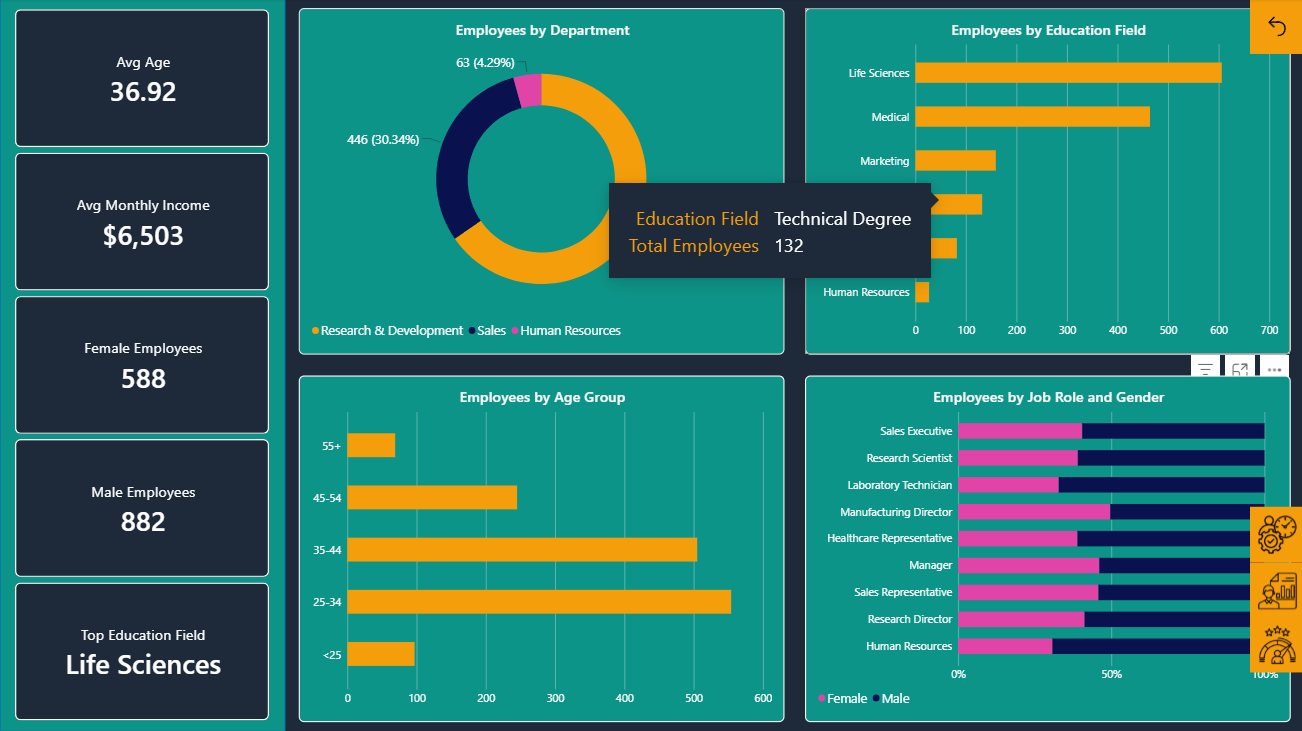

The dashboard page shown, as its layout file describes it:
{"tool":"powerbi","page":{"name":"Employee Demographics","canvas":[1920,1080],"ordinal":1},"visuals":[{"type":"shape","box":[0,0,420,1080],"z":0},{"type":"actionButton","box":[1840,750,80,82.5],"z":0,"group":"g1"},{"type":"actionButton","box":[1840,832.5,80,82.5],"z":1000,"group":"g1"},{"type":"cardVisual","fields":{"Data":["_Measures.Avg Age","_Measures.Avg Monthly Income","_Measures.Female Count","_Measures.Male Count","_Measures.Top Education Field"]},"box":[22,16,374,1050],"z":2000},{"type":"actionButton","box":[1840,912,80,82],"z":2000,"group":"g1"},{"type":"donutChart","title":"Employees by Department","fields":{"Category":["HR_Employee_Attrition.Department"],"Y":["_Measures.Total Employees"]},"box":[440,15,715,510],"z":3000},{"type":"clusteredBarChart","title":"Employees by Education Field","fields":{"Category":["HR_Employee_Attrition.EducationField"],"Y":["_Measures.Total Employees"]},"box":[1185,15,715,510],"z":4000},{"type":"clusteredBarChart","title":"Employees by Age Group","fields":{"Category":["HR_Employee_Attrition.Custom"],"Y":["_Measures.Total Employees"]},"box":[440,555,715,510],"z":5000},{"type":"hundredPercentStackedBarChart","title":"Employees by Job Role and Gender","fields":{"Category":["HR_Employee_Attrition.JobRole"],"Series":["HR_Employee_Attrition.Gender"],"Y":["_Measures.Total Employees"]},"box":[1185,555,715,510],"z":6000},{"type":"group","id":"g1","title":"Group 1","box":[1840,750,80,244],"z":7000},{"type":"actionButton","box":[1840,0,80,82.5],"z":7500}]}

Visuals, with their boxes in screenshot pixels (x1, y1, x2, y2), scaled from the page's 1920x1080 canvas onto the 1302x731 screenshot:
shape: (0,0,285,730)
actionButton: (1248,508,1301,563)
actionButton: (1248,563,1301,619)
cardVisual - _Measures.Avg Age x _Measures.Avg Monthly Income: (15,11,269,722)
actionButton: (1248,617,1301,673)
"Employees by Department" donutChart: (298,10,783,355)
"Employees by Education Field" clusteredBarChart: (804,10,1288,355)
"Employees by Age Group" clusteredBarChart: (298,376,783,721)
"Employees by Job Role and Gender" hundredPercentStackedBarChart: (804,376,1288,721)
"Group 1" group: (1248,508,1301,673)
actionButton: (1248,0,1301,56)
